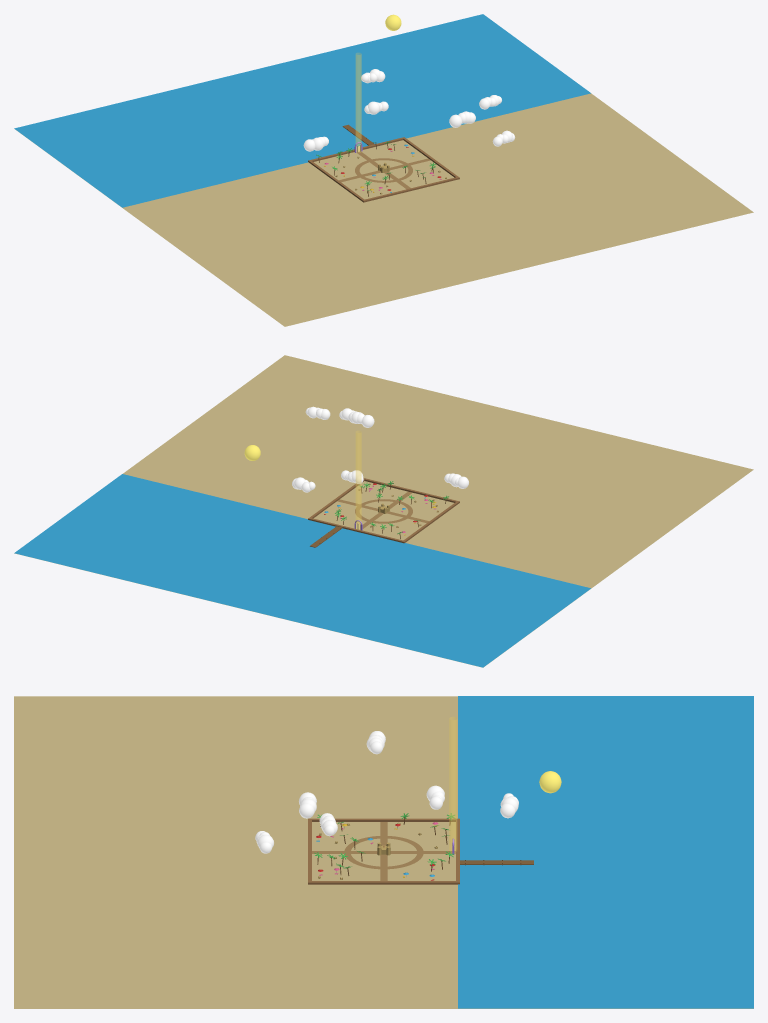
File: 04-beach.glb
3 renders of one model, top to bottom at view 1: azimuth 30°, elevation 25°; view 2: azimuth 150°, elevation 25°; view 3: azimuth 270°, elevation 25°, orthographic. The views are drawn at different scales.
Visible parts, largest first — view 1: big (lit), big (lit, see-through 0.95), beam; view 2: big (lit), big (lit, see-through 0.95), beam; view 3: big (lit), big (lit, see-through 0.95), beam.
Boxes of the visible parts, x1,y1,x2,y2 form: big (lit): (16, 93, 753, 326); big (lit, see-through 0.95): (14, 14, 590, 207); beam: (356, 53, 361, 152); big (lit): (14, 355, 753, 667); big (lit, see-through 0.95): (14, 474, 590, 667); beam: (356, 431, 361, 529); big (lit): (14, 696, 753, 1008); big (lit, see-through 0.95): (458, 696, 753, 1008); beam: (449, 717, 456, 853).
Bounding box in the file's own units: 400 × 81 × 400.
